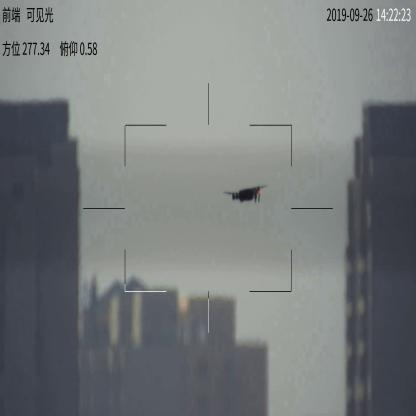uav: (221, 184, 267, 206)
